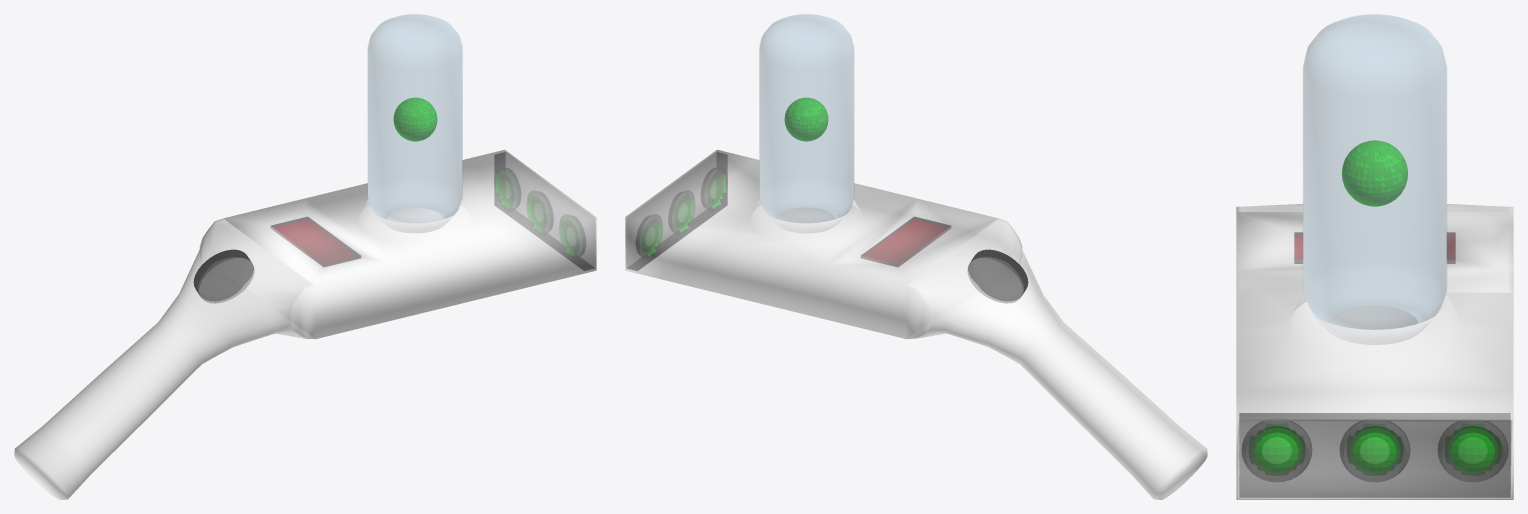
File: portalgun.obj
3 renders of one model, left to right at view 1: azimuth 30°, elevation 25°; view 2: azimuth 150°, elevation 25°; view 3: azimuth 270°, elevation 25°, orthographic. The views are drawn at different scales.
Visible parts, largest first — view 1: Portal_Gun_Cube.001, Bulb_Cube.000, Spark_Sphere; view 2: Portal_Gun_Cube.001, Bulb_Cube.000, Spark_Sphere; view 3: Portal_Gun_Cube.001, Bulb_Cube.000, Spark_Sphere.
Part boxes in pixels (box(x1,y1,x2,y2)): Portal_Gun_Cube.001: box(14, 149, 596, 499); Bulb_Cube.000: box(367, 14, 462, 222); Spark_Sphere: box(393, 97, 437, 141); Portal_Gun_Cube.001: box(625, 149, 1207, 499); Bulb_Cube.000: box(759, 14, 854, 222); Spark_Sphere: box(784, 97, 828, 141); Portal_Gun_Cube.001: box(1236, 204, 1513, 499); Bulb_Cube.000: box(1303, 14, 1446, 329); Spark_Sphere: box(1342, 140, 1407, 206).
Bounding box in the file's own units: 4.43 × 3.08 × 1.34.
Materials: 1 (1 with a texture image).
